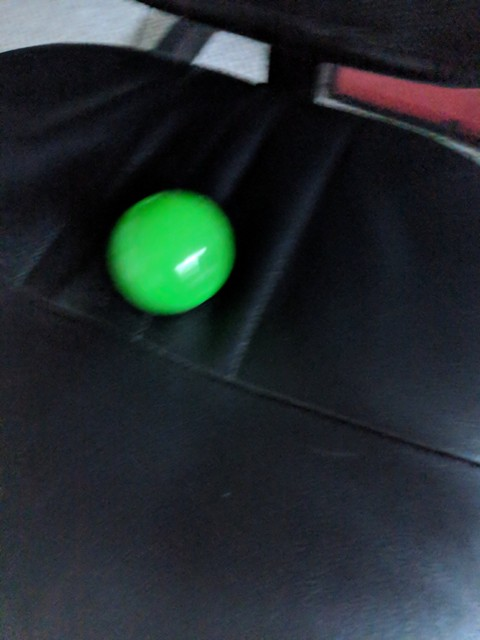ball: (104, 186, 239, 317)
